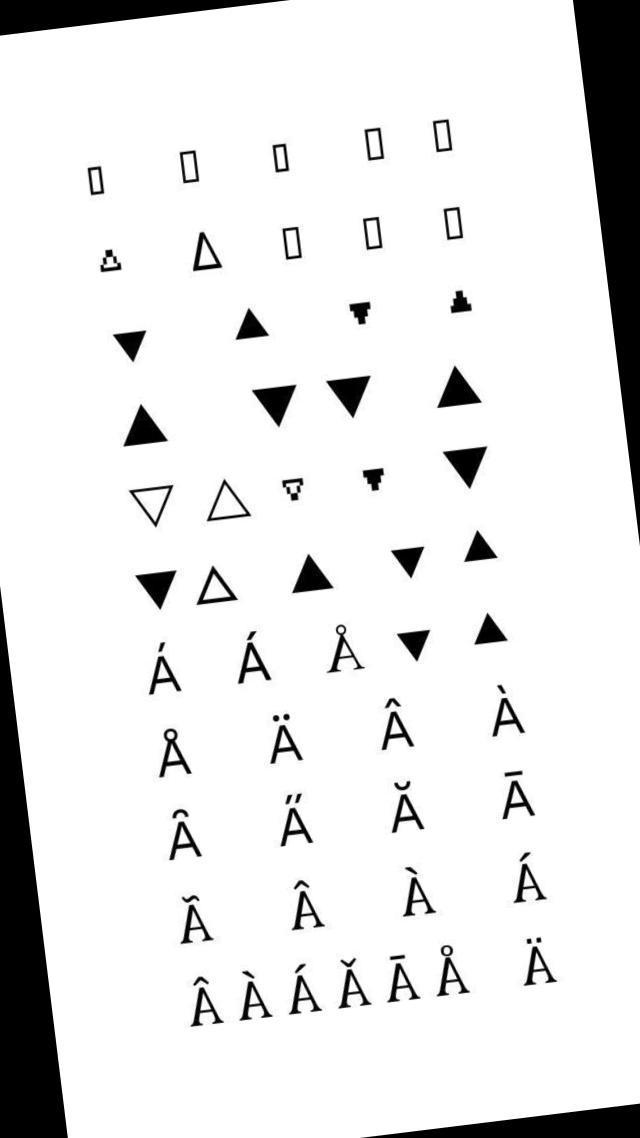ASCII: (242, 371, 310, 438), (370, 688, 433, 759), (317, 363, 382, 429), (225, 620, 282, 695), (114, 391, 180, 455), (479, 674, 538, 745), (487, 761, 549, 827), (513, 919, 567, 994), (432, 437, 500, 496), (376, 772, 431, 844), (256, 702, 311, 772), (154, 797, 208, 868), (316, 618, 374, 684), (165, 886, 222, 953), (427, 359, 496, 414), (278, 955, 332, 1024), (146, 718, 200, 786), (135, 635, 187, 704), (270, 786, 321, 856), (200, 468, 257, 530), (281, 872, 334, 938), (505, 841, 554, 912), (128, 559, 186, 618), (102, 314, 157, 376), (178, 966, 226, 1035), (390, 859, 440, 925), (282, 548, 338, 606), (329, 949, 378, 1015), (230, 959, 276, 1028), (426, 936, 474, 1001), (124, 478, 180, 532), (228, 296, 276, 356), (380, 946, 425, 1010), (178, 226, 229, 281), (453, 522, 506, 574), (192, 562, 246, 610), (422, 102, 465, 162), (466, 606, 516, 655), (431, 196, 473, 252), (383, 533, 431, 581), (88, 236, 131, 282), (352, 208, 390, 258), (392, 619, 434, 664), (352, 456, 394, 500), (172, 140, 206, 194), (78, 154, 114, 204), (439, 280, 479, 324), (273, 217, 307, 268), (355, 121, 389, 168), (343, 292, 379, 333), (272, 472, 313, 507), (264, 138, 298, 180)
